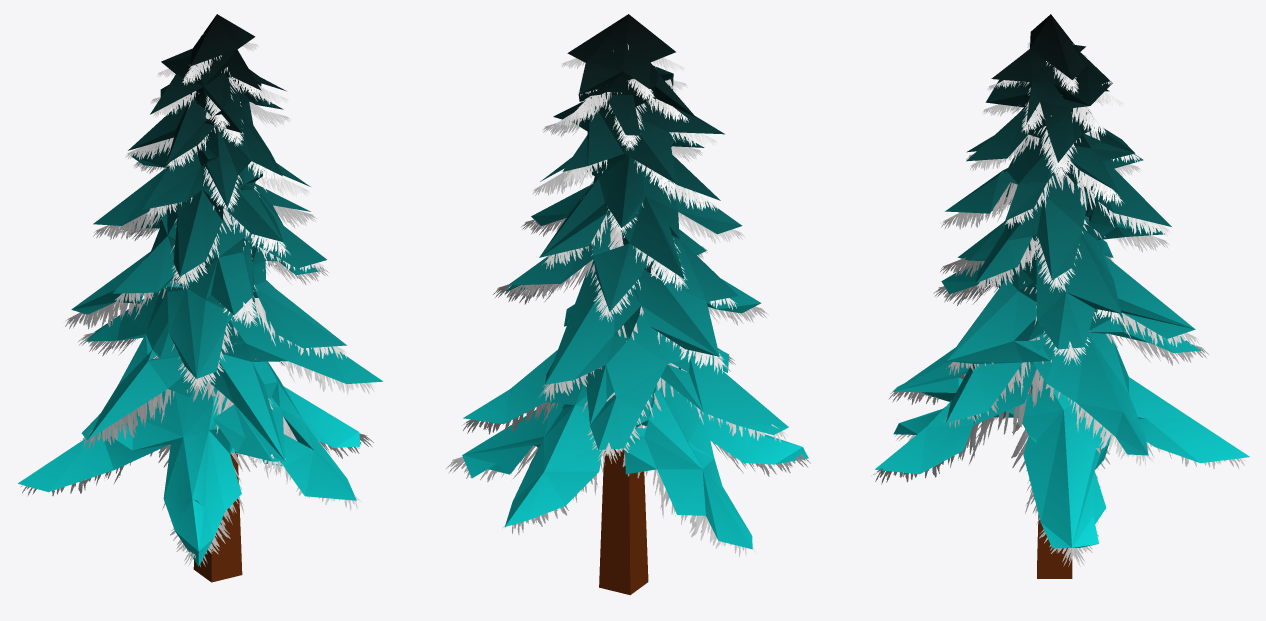
File: PineTree01b.fbx
3 renders of one model, left to right at view 1: azimuth 30°, elevation 25°; view 2: azimuth 150°, elevation 25°; view 3: azimuth 270°, elevation 25°, orthographic. The views are drawn at different scales.
Parts seen in each view (by area): view 1: PineTree01b_LOD0.002; view 2: PineTree01b_LOD0.002; view 3: PineTree01b_LOD0.002.
Boxes of the visible parts, bbox=[...] form: PineTree01b_LOD0.002: bbox=[18, 14, 382, 582]; PineTree01b_LOD0.002: bbox=[446, 14, 810, 595]; PineTree01b_LOD0.002: bbox=[873, 14, 1249, 578].
Size of what is drawn, in the model's own units: 415 by 645 by 415.
